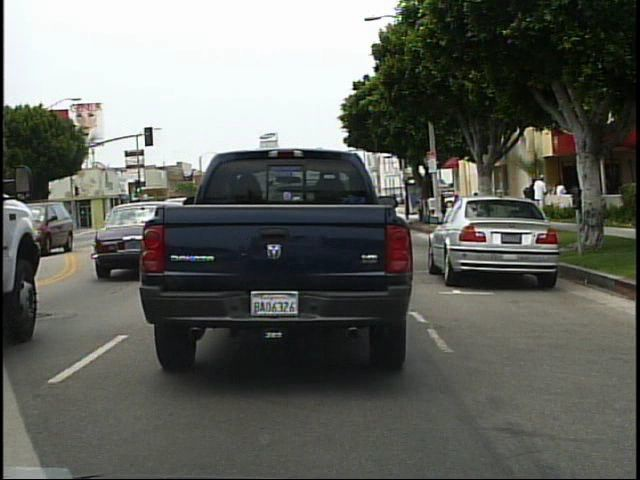person: (530, 173, 554, 224), (551, 177, 573, 223)
